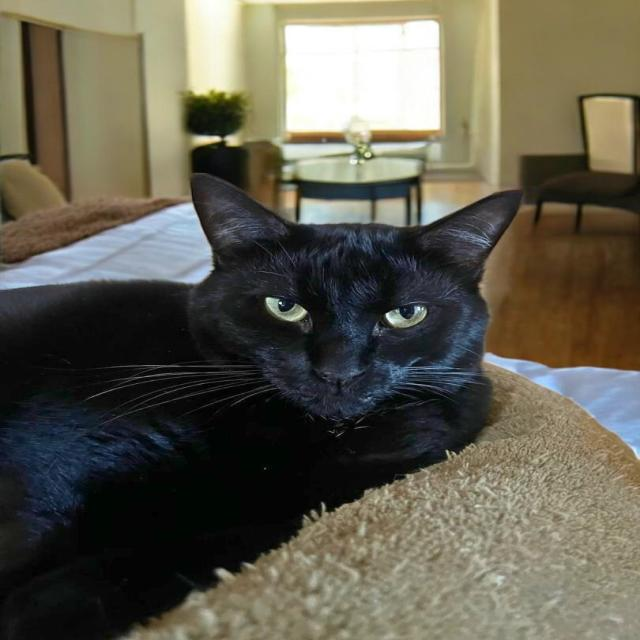bombay_cat: (164, 159, 538, 461)
